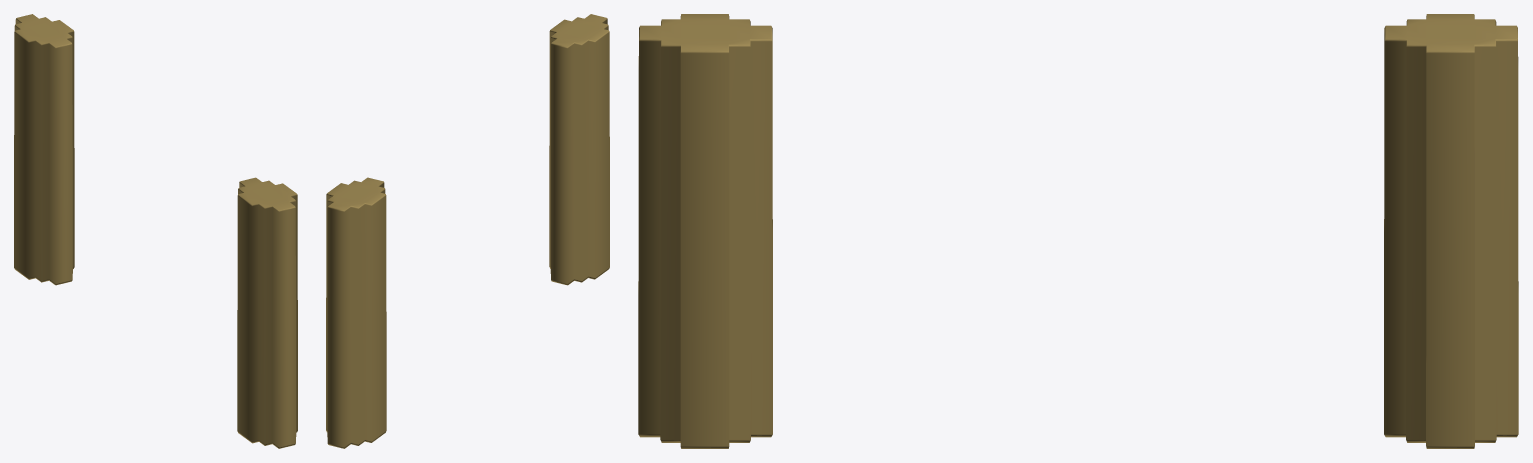
Rendered from Wall_Arc_04B_Lod0.fbx.
The picture shows the model from 3 angles, left to right: view 1: azimuth 30°, elevation 25°; view 2: azimuth 150°, elevation 25°; view 3: azimuth 270°, elevation 25°; orthographic projection. The views are drawn at different scales.
Visible parts, largest first — view 1: Wall_Arc_04B_Lod0; view 2: Wall_Arc_04B_Lod0; view 3: Wall_Arc_04B_Lod0.
Boxes of the visible parts, x1,y1,x2,y2 form: Wall_Arc_04B_Lod0: [14, 14, 297, 448]; Wall_Arc_04B_Lod0: [326, 14, 609, 448]; Wall_Arc_04B_Lod0: [638, 14, 1518, 448].
Bounding box in the file's own units: 60.37 × 300 × 600.
